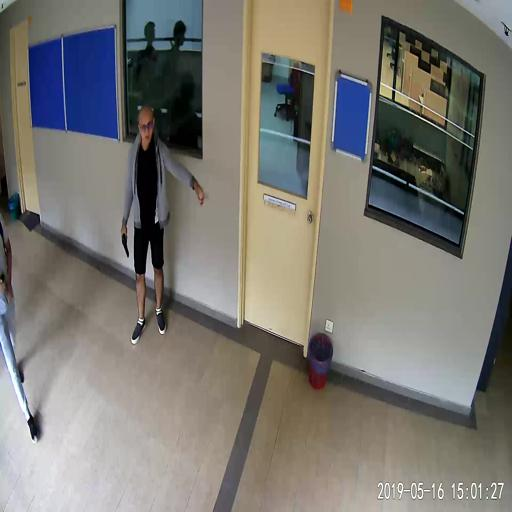pistol: (121, 228, 128, 257)
